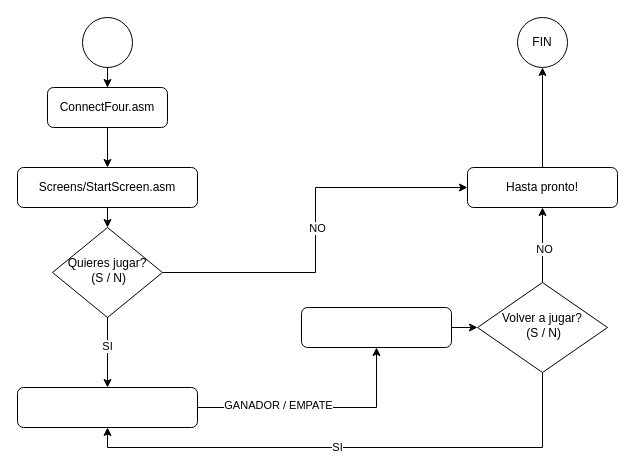
Some shapes in this 635 by 473 pixel diagram are drawn without their labels. The shapes that lost their labels are listed below. From the top down, each one's box as (x1, y1, x2, y2) in pixels, then its label:
(82, 16, 132, 68): INICIO
(300, 306, 452, 348): Screens/EndScreen.asm
(16, 386, 198, 428): Screens/GameScreen.asm
